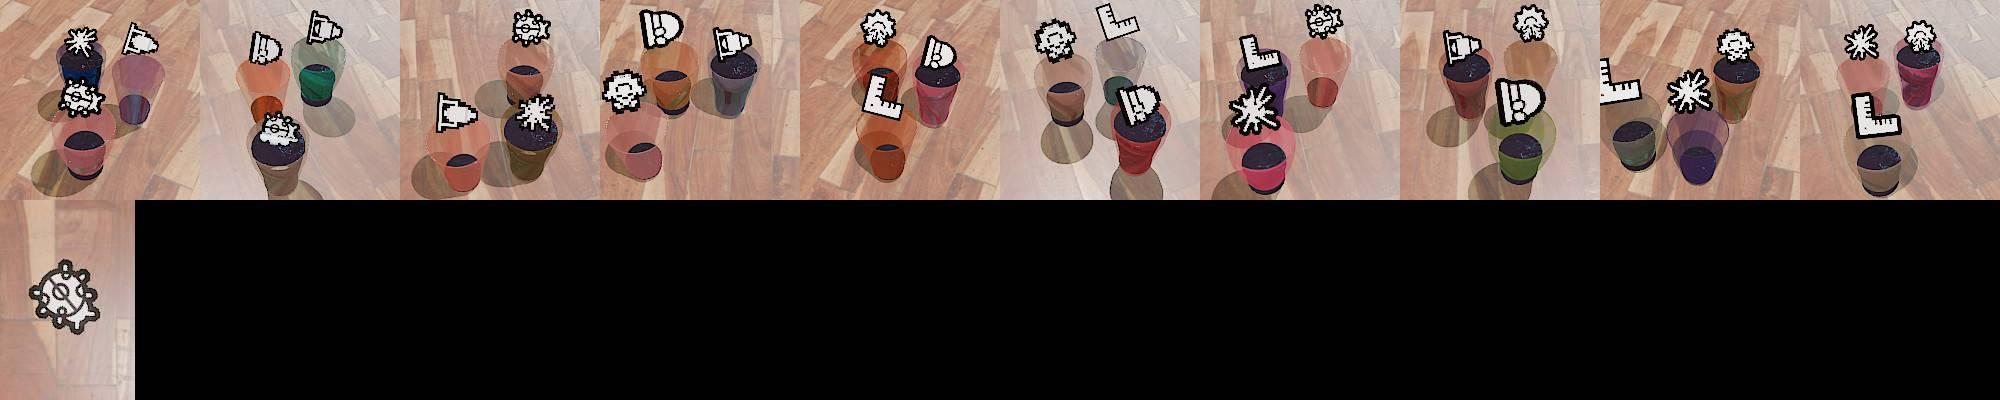icon: (27, 257, 102, 335), (1228, 84, 1283, 135), (1495, 75, 1546, 126), (1849, 90, 1901, 140), (1665, 69, 1714, 116), (1598, 59, 1644, 110), (599, 69, 648, 116), (861, 70, 904, 120), (1033, 18, 1078, 64), (1239, 33, 1283, 78), (435, 92, 481, 135), (1117, 84, 1161, 129), (1094, 1, 1140, 43), (59, 78, 106, 118), (639, 9, 684, 50), (858, 8, 899, 48), (1441, 28, 1483, 68), (510, 8, 551, 47), (918, 34, 958, 74), (1714, 28, 1756, 65), (1511, 4, 1551, 42), (258, 111, 301, 145), (1304, 3, 1343, 39), (713, 25, 754, 61), (121, 20, 161, 56), (1843, 24, 1880, 61), (306, 9, 343, 46), (247, 29, 283, 66), (1902, 19, 1937, 54), (520, 96, 555, 129), (64, 27, 99, 59)
